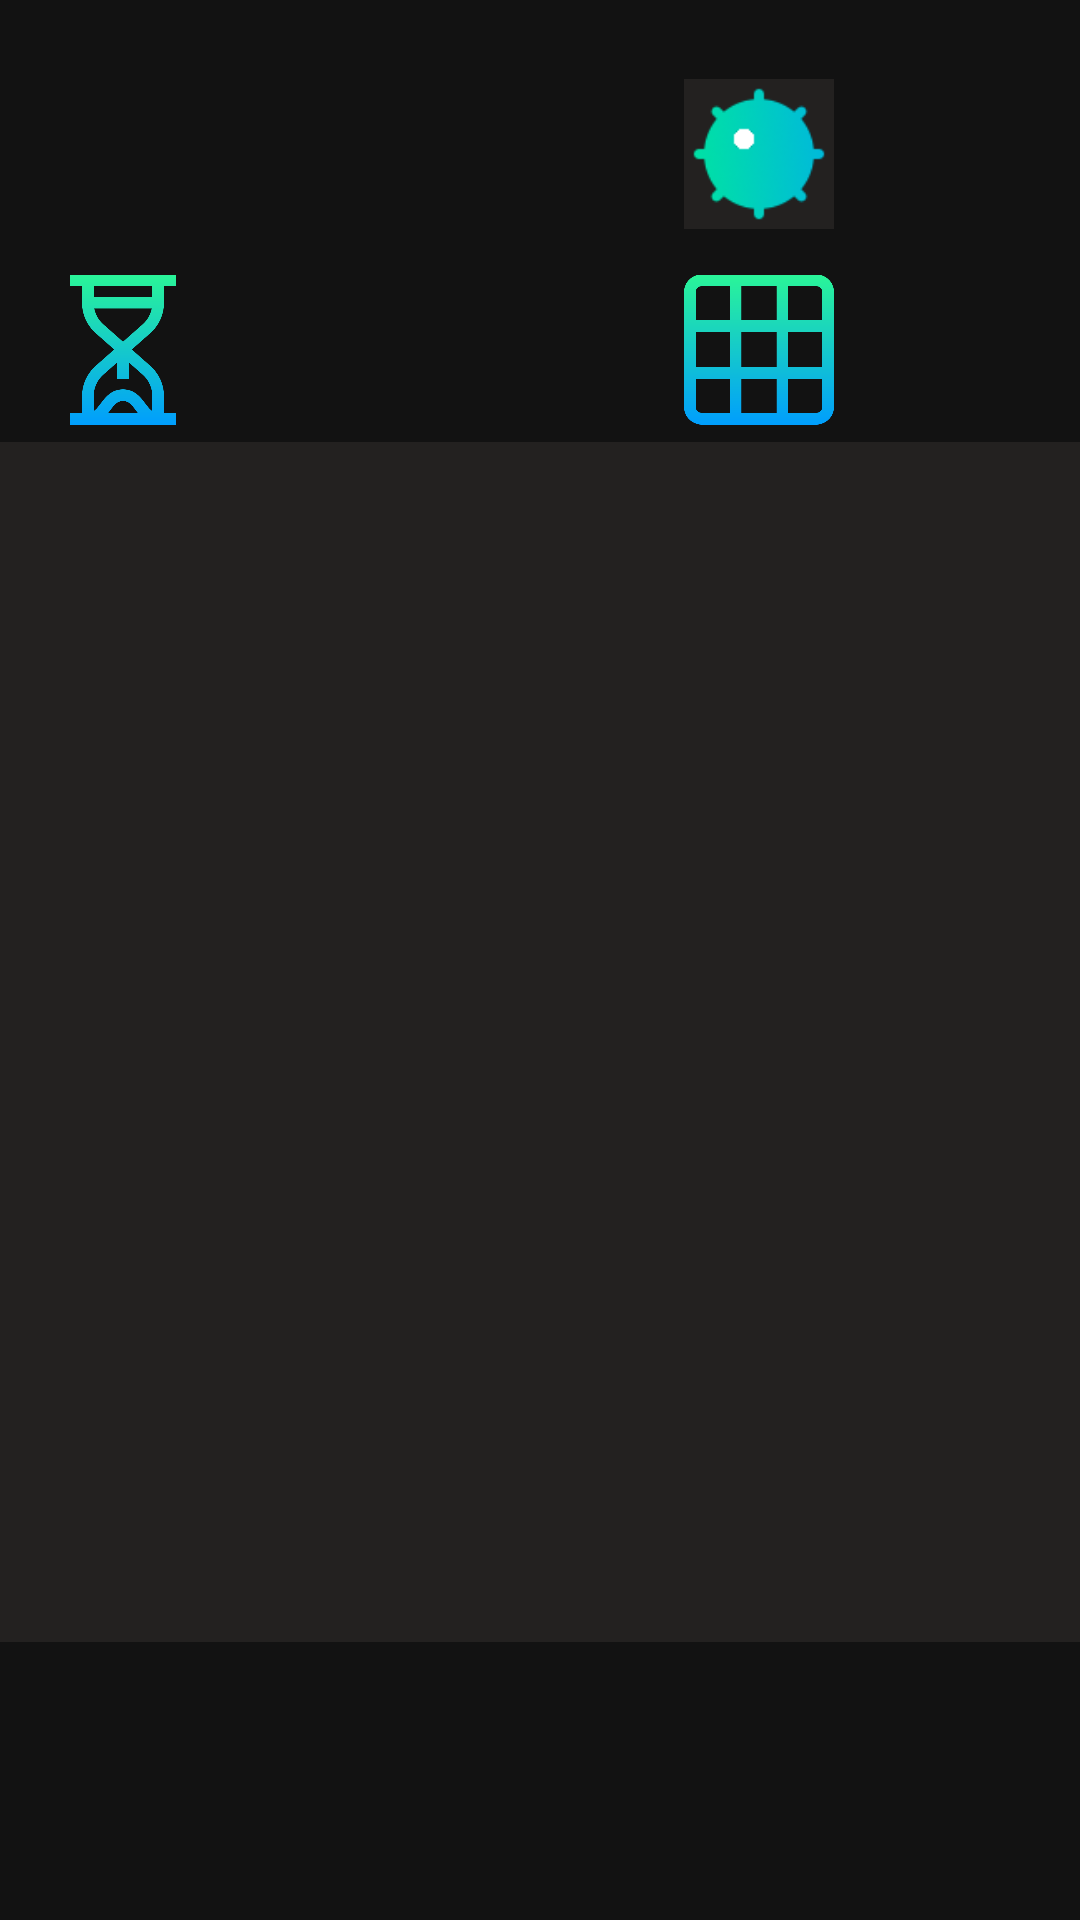

Locate icon controls on the screen. Image size 1080×1920, boxes as (x1, y1, x2, y2).
grid: (684, 275, 834, 425)
mine: (693, 88, 825, 220)
time: (70, 275, 176, 425)
